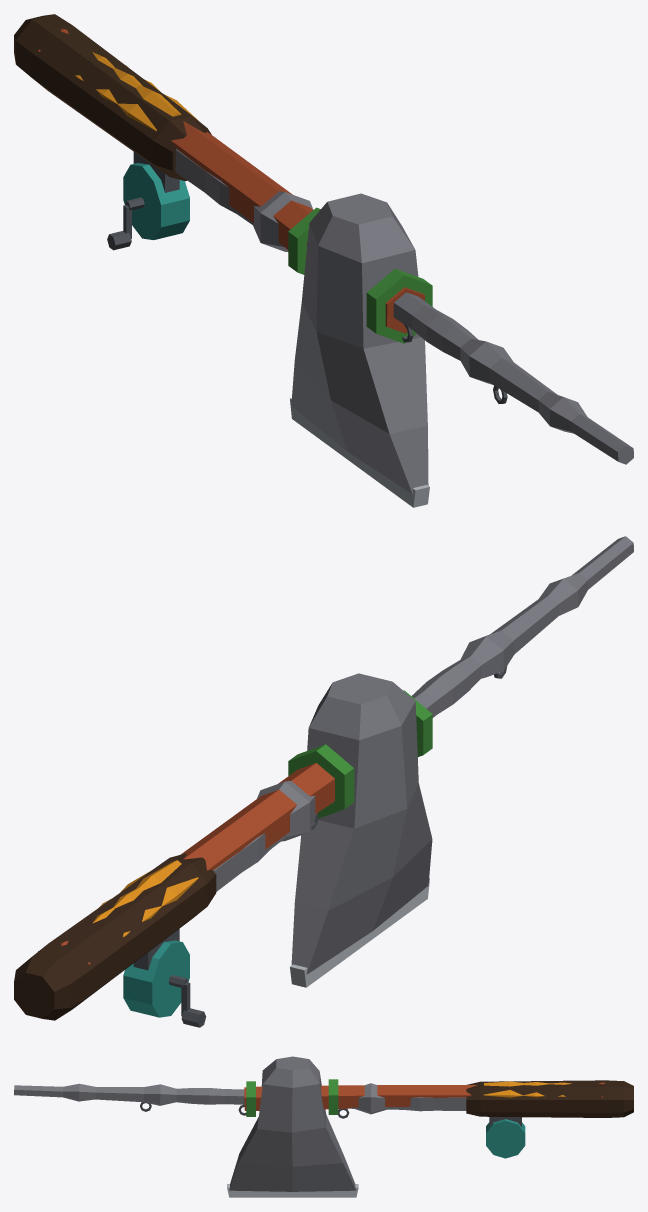
Rendered from w2_tools.fbx.
3 views of the same model, one above another, from view 1: azimuth 30°, elevation 25°; view 2: azimuth 150°, elevation 25°; view 3: azimuth 270°, elevation 25° (orthographic). The views are drawn at different scales.
Visible parts, largest first — view 1: StoneAxe.Head, StoneRod.Grip, StoneRod.Rod, StoneAxe.Handle, StoneRod.Reel, StoneAxe.Vine, StoneAxe.Edge, StoneAxe.Grip, StoneRod.Stone; view 2: StoneAxe.Head, StoneRod.Grip, StoneRod.Rod, StoneAxe.Handle, StoneRod.Reel, StoneAxe.Vine, StoneAxe.Edge, StoneAxe.Grip, StoneRod.Stone; view 3: StoneAxe.Head, StoneRod.Grip, StoneRod.Rod, StoneAxe.Handle, StoneRod.Reel, StoneAxe.Edge, StoneAxe.Vine, StoneAxe.Grip, StoneRod.Stone.
Part boxes in pixels (x1,y1,x2,y2): StoneAxe.Head: (291, 193, 428, 494); StoneRod.Grip: (14, 14, 211, 181); StoneRod.Rod: (175, 149, 633, 464); StoneAxe.Handle: (38, 28, 424, 333); StoneRod.Reel: (123, 163, 189, 240); StoneAxe.Vine: (288, 207, 432, 343); StoneAxe.Edge: (290, 398, 429, 507); StoneAxe.Grip: (75, 52, 197, 131); StoneRod.Stone: (107, 152, 507, 403); StoneAxe.Head: (291, 673, 432, 974); StoneRod.Grip: (14, 853, 216, 1020); StoneRod.Rod: (213, 536, 633, 891); StoneAxe.Handle: (38, 763, 334, 964); StoneRod.Reel: (123, 940, 189, 1017); StoneAxe.Vine: (288, 690, 432, 818); StoneAxe.Edge: (290, 878, 429, 987); StoneAxe.Grip: (92, 860, 198, 936); StoneRod.Stone: (133, 666, 507, 1027); StoneAxe.Head: (229, 1056, 356, 1191); StoneRod.Grip: (466, 1080, 633, 1117); StoneRod.Rod: (14, 1083, 466, 1114); StoneAxe.Handle: (244, 1082, 605, 1110); StoneRod.Reel: (486, 1119, 525, 1158); StoneAxe.Edge: (227, 1184, 358, 1197); StoneAxe.Vine: (246, 1079, 338, 1116); StoneAxe.Grip: (484, 1081, 571, 1097); StoneRod.Stone: (140, 1102, 521, 1126).
Size of the model in its own units: 0.5 by 1.33 by 5.65.
